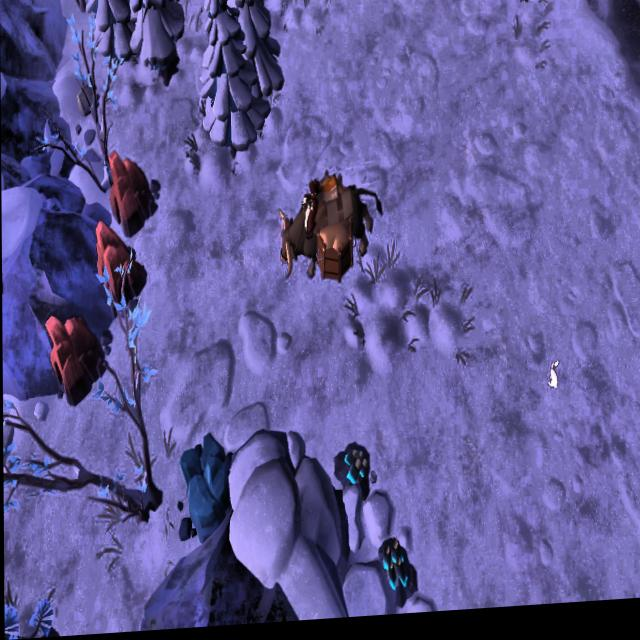ore_t4: (382, 537, 410, 599), (342, 448, 370, 492)
rock_t4: (176, 431, 231, 544)
rock_t5: (45, 310, 109, 408), (94, 220, 144, 316), (109, 143, 159, 236)
